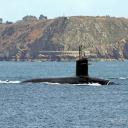submarine: (19, 44, 119, 85)
